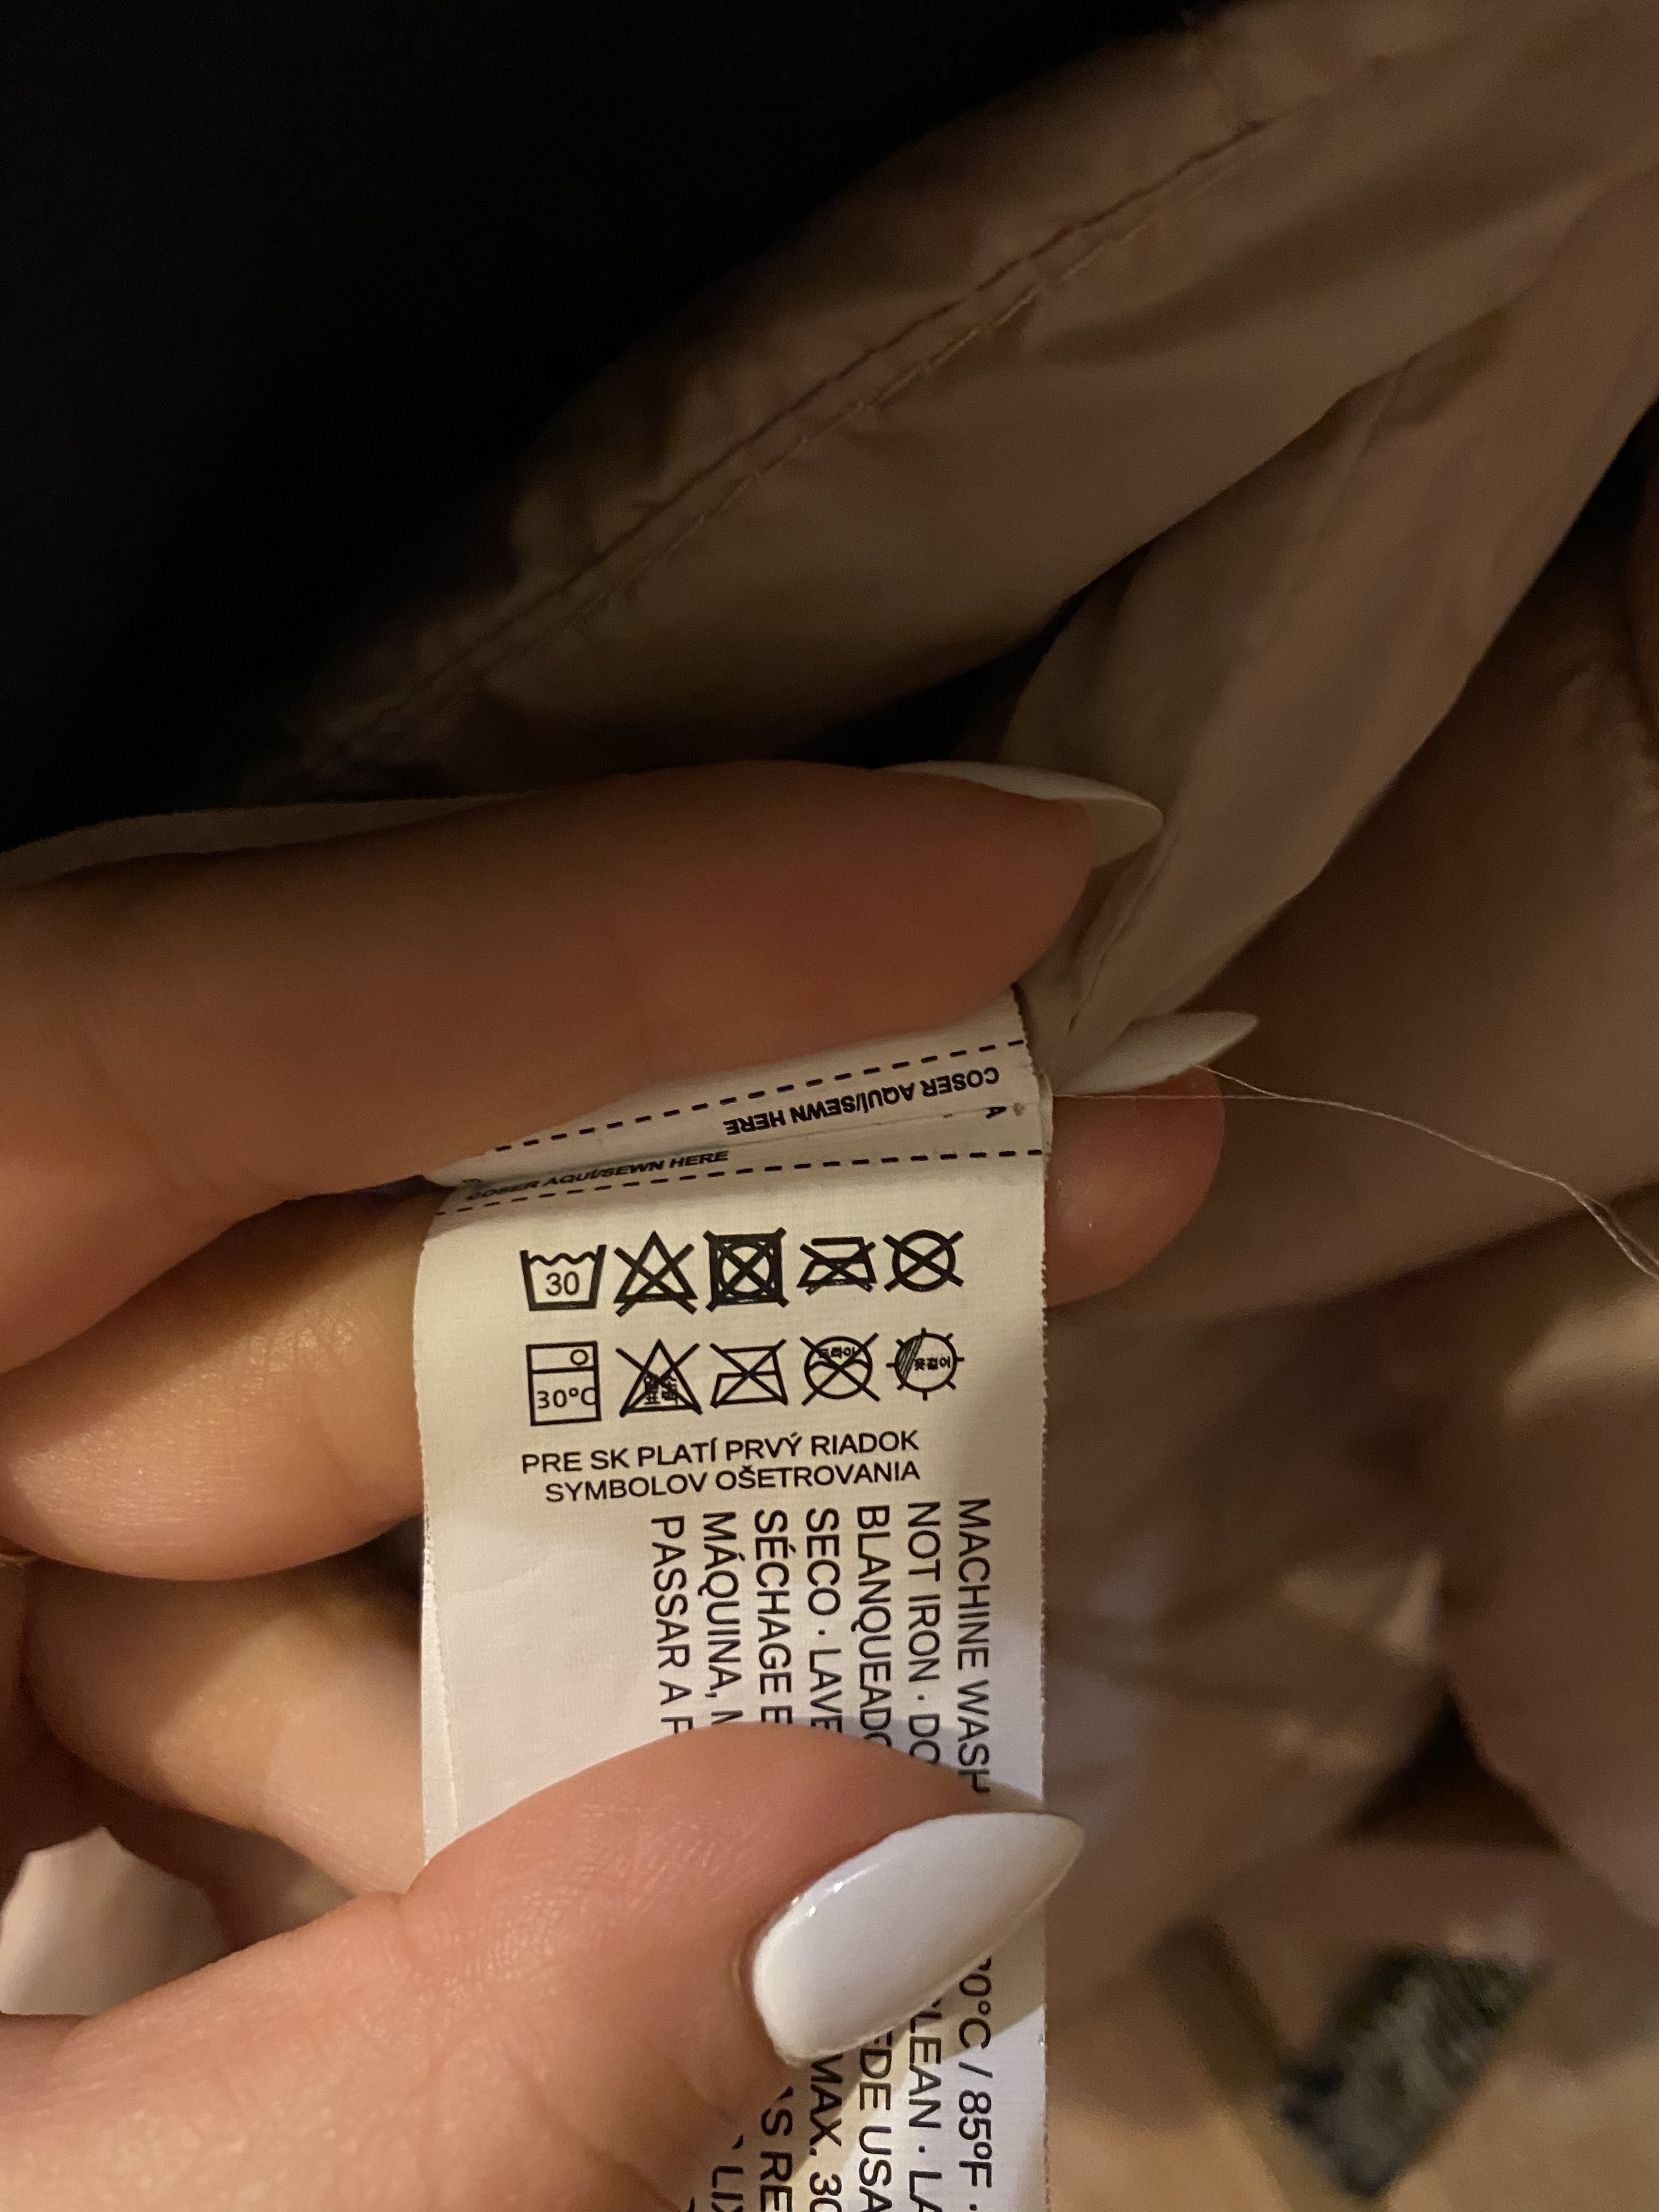do_not_bleach: (613, 1226, 697, 1320)
do_not_dry_clean: (882, 1223, 967, 1303)
do_not_iron: (706, 1332, 793, 1416), (793, 1230, 878, 1301)
do_not_tumble_drying: (702, 1219, 791, 1317)
wash_at_or_below_30: (519, 1237, 608, 1317)
